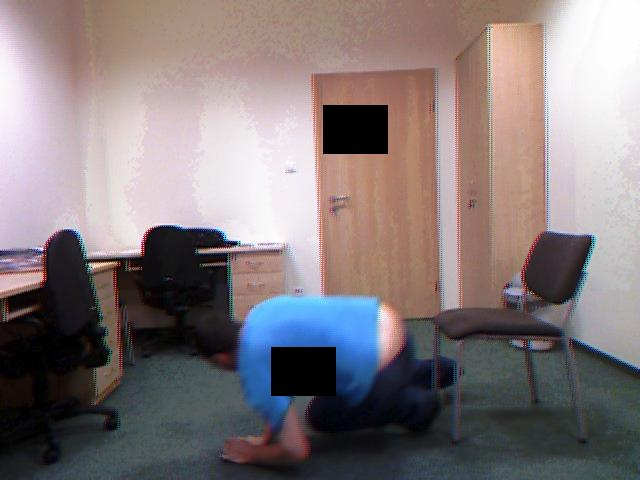fall: (195, 296, 454, 467)
